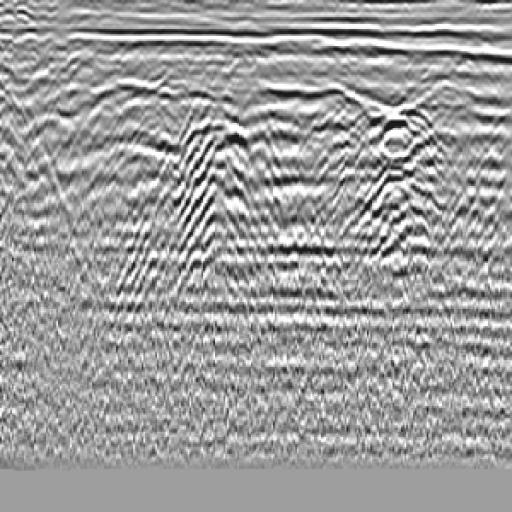metalic: (141, 77, 243, 143)
